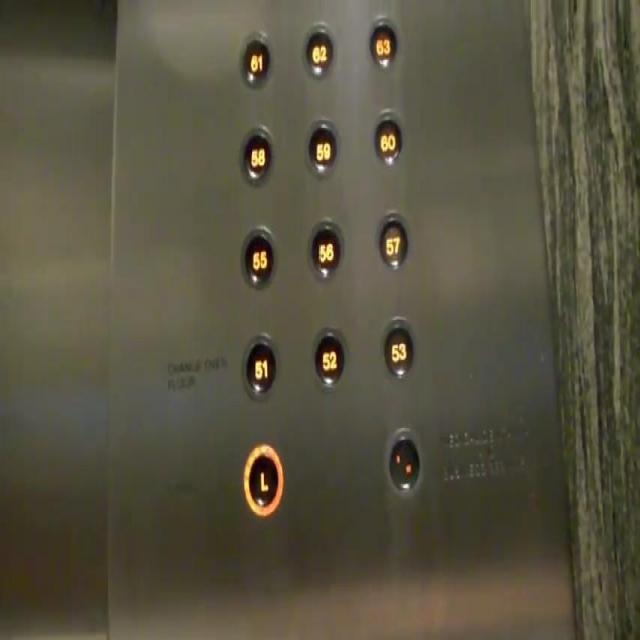51: (239, 331, 279, 400)
52: (312, 327, 345, 389)
53: (379, 315, 418, 381)
55: (238, 223, 278, 289)
56: (305, 218, 345, 282)
57: (375, 209, 411, 272)
58: (238, 124, 275, 184)
59: (301, 117, 340, 176)
60: (370, 107, 406, 169)
61: (238, 29, 274, 88)
62: (300, 20, 336, 79)
63: (365, 15, 399, 70)
L: (242, 443, 283, 516)
blur: (383, 427, 422, 496)
